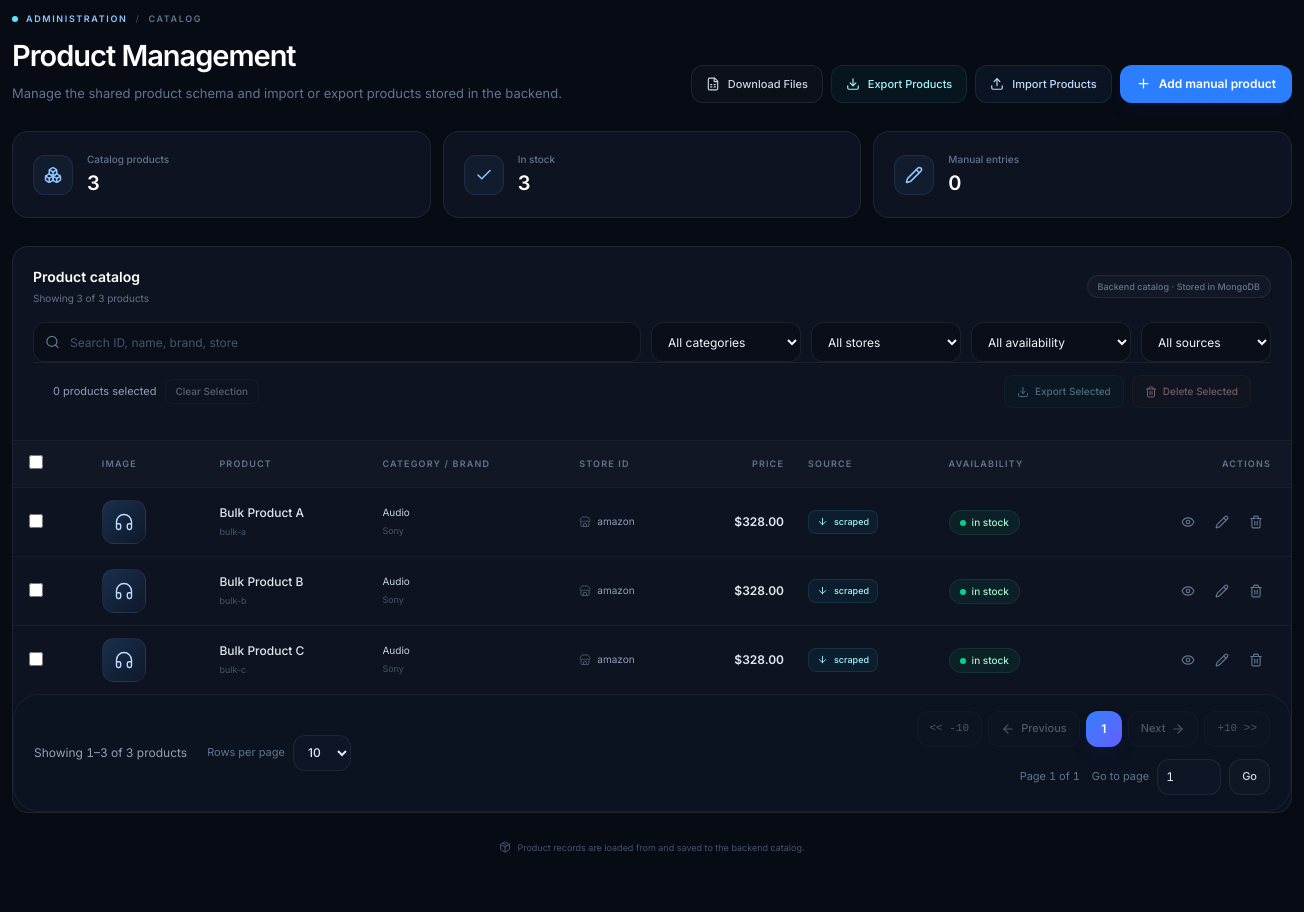
Scenario: admin and shared user pages › supports single and multiple selection, select all, and clear selection
Expected: the button "Export Selected" is disabled, [1004,375,1124,408]
Expected: the button "Delete Selected" is disabled, [1132,375,1251,408]
What coordinates should you click on to do the following:
click the checkbox named "Select bulk-a"
I would click on:
 (36, 520)
Its box is [29,514,43,528].
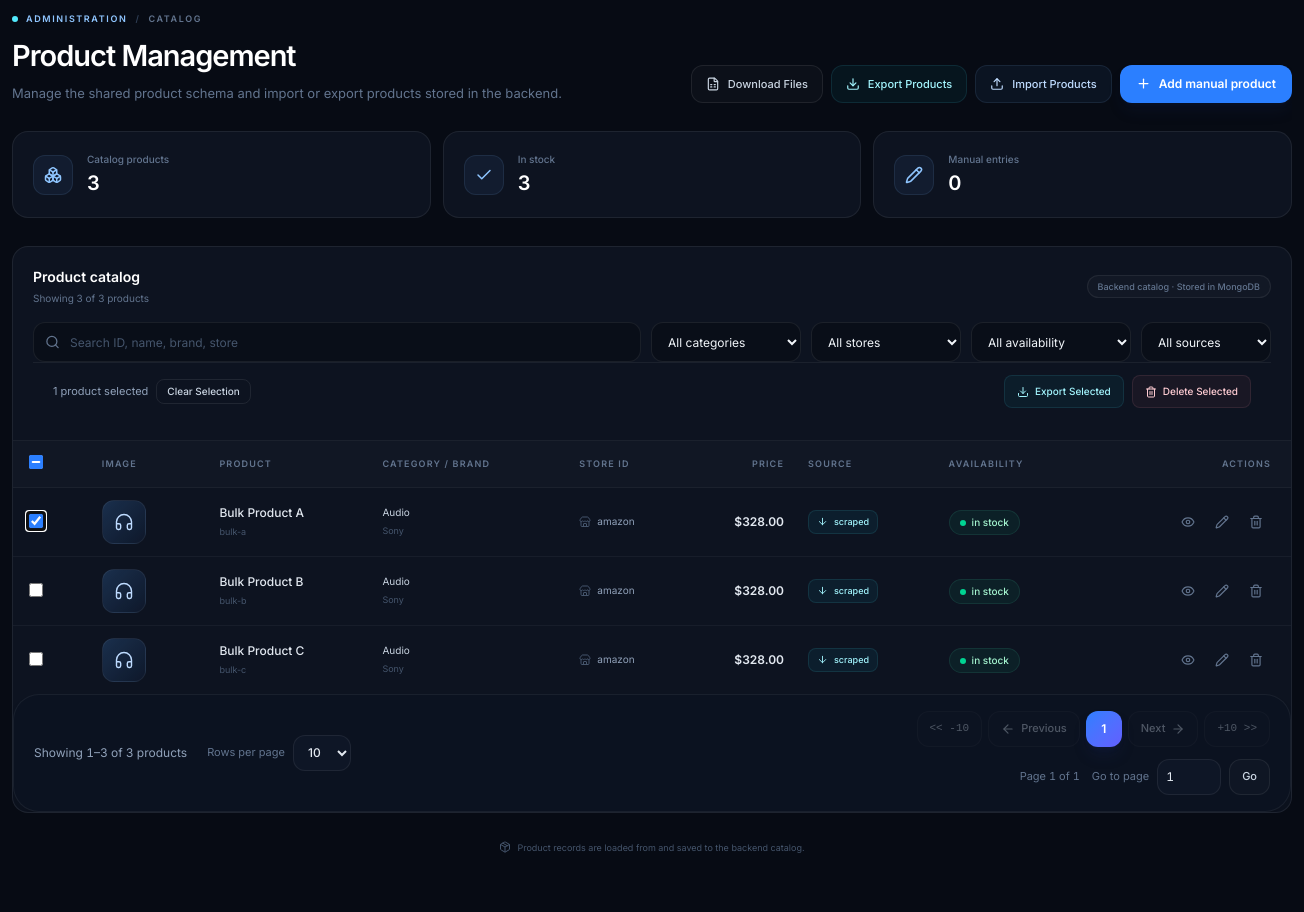
Now the text "1 product selected" is shown, box [53,383,148,400]
Now the button "Export Selected" is enabled, box [1004,375,1124,408]
What coordinates should you click on to do the following:
click the checkbox named "Select bulk-c"
I would click on:
 (36, 658)
Its box is [29,652,43,666].
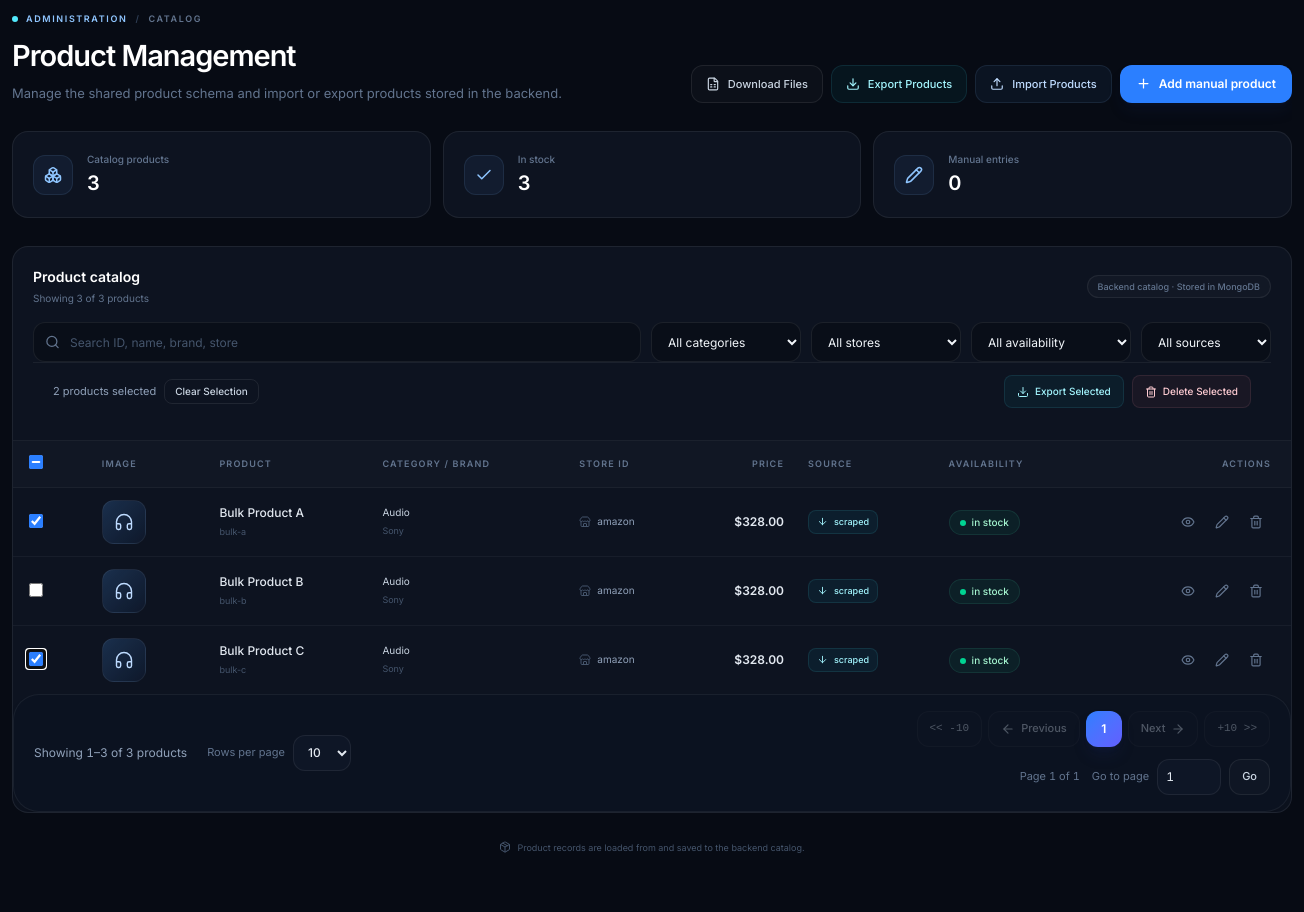
Now the text "2 products selected" is shown, box [53,383,156,400]
What coordinates should you click on to do the following:
click the checkbox named "Select all visible products"
I would click on:
 (36, 462)
Its box is [29,455,43,469].
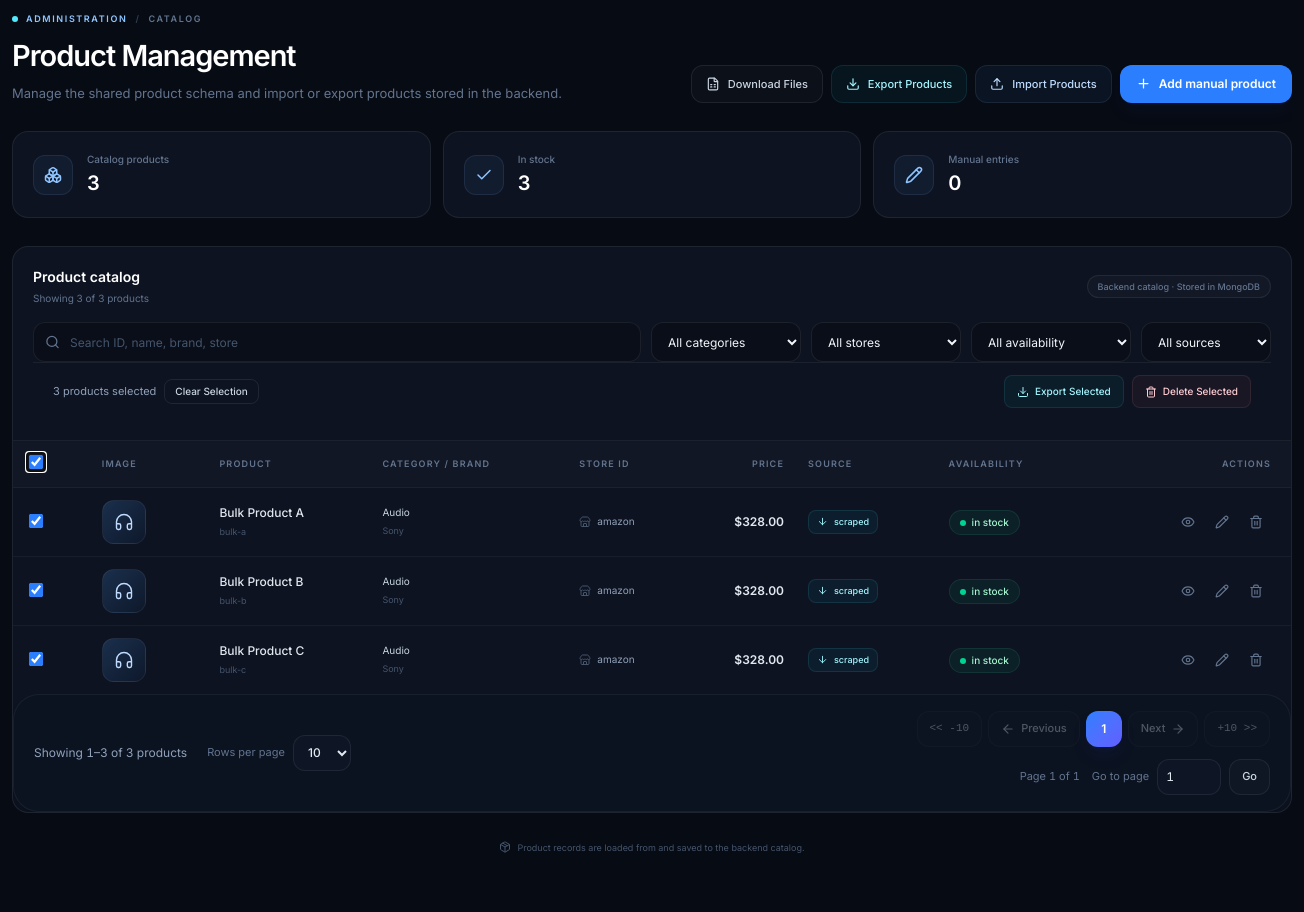
Now the text "3 products selected" is shown, box [53,383,156,400]
What coordinates should you click on to do the following:
click the button "Clear Selection"
I would click on:
 (212, 392)
Its box is [164,379,259,404].
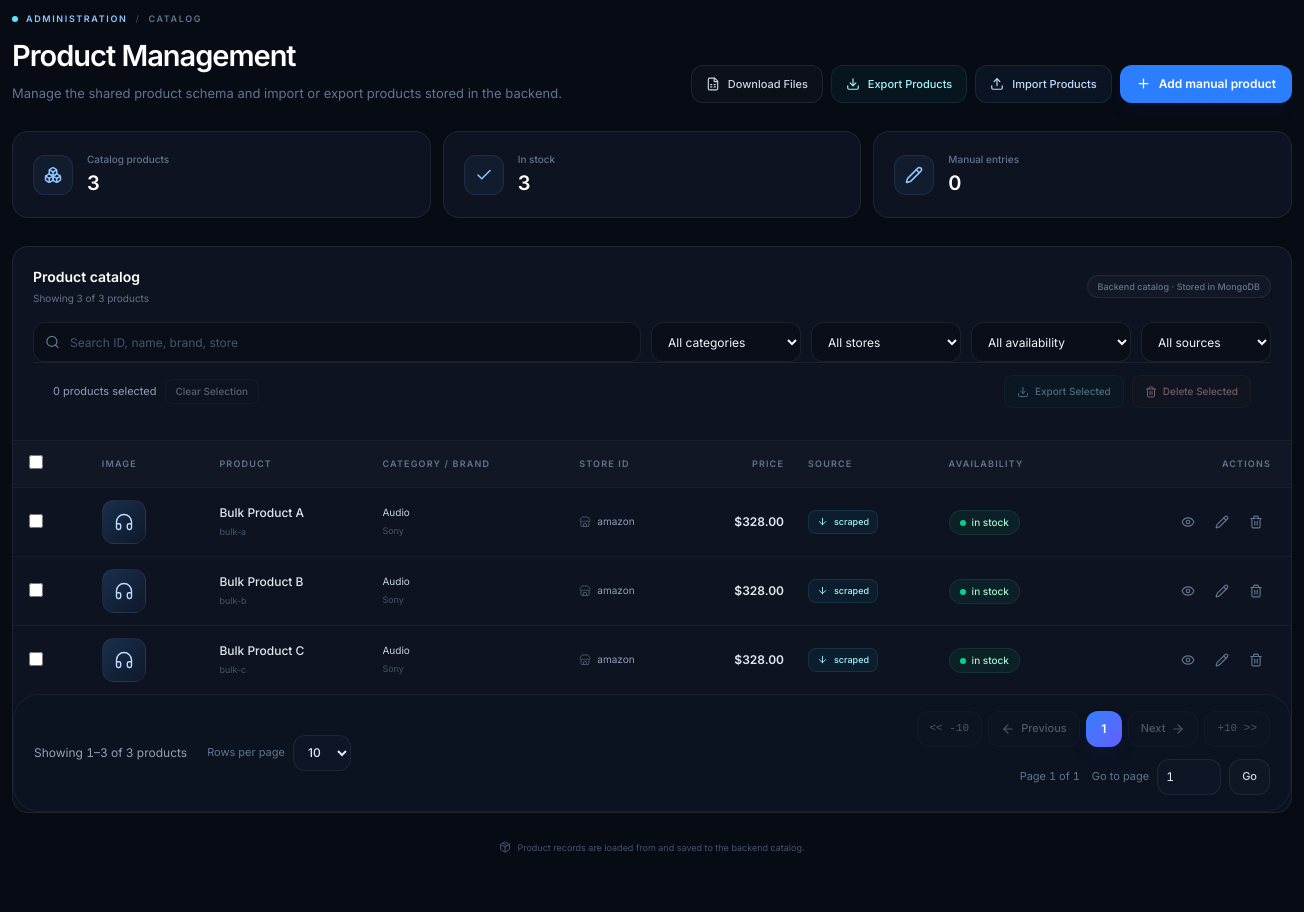
Now the text "0 products selected" is shown, box [53,383,156,400]
Now the button "Export Selected" is disabled, box [1004,375,1124,408]
Now the button "Delete Selected" is disabled, box [1132,375,1251,408]
